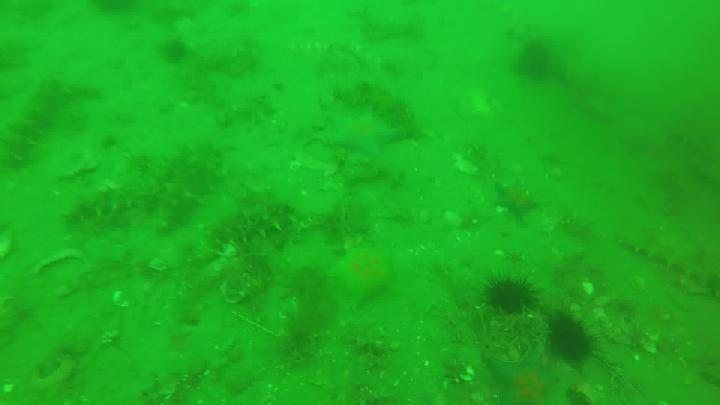echinus: (541, 313, 613, 364), (495, 271, 541, 322), (513, 42, 554, 77), (163, 37, 187, 66)
holothurian: (152, 143, 228, 235), (619, 225, 720, 284), (4, 69, 58, 170), (58, 188, 159, 223), (220, 204, 296, 249), (356, 81, 416, 130)
scallop: (221, 276, 256, 304), (455, 154, 482, 177)
starfish: (320, 107, 405, 169), (495, 181, 545, 222)
